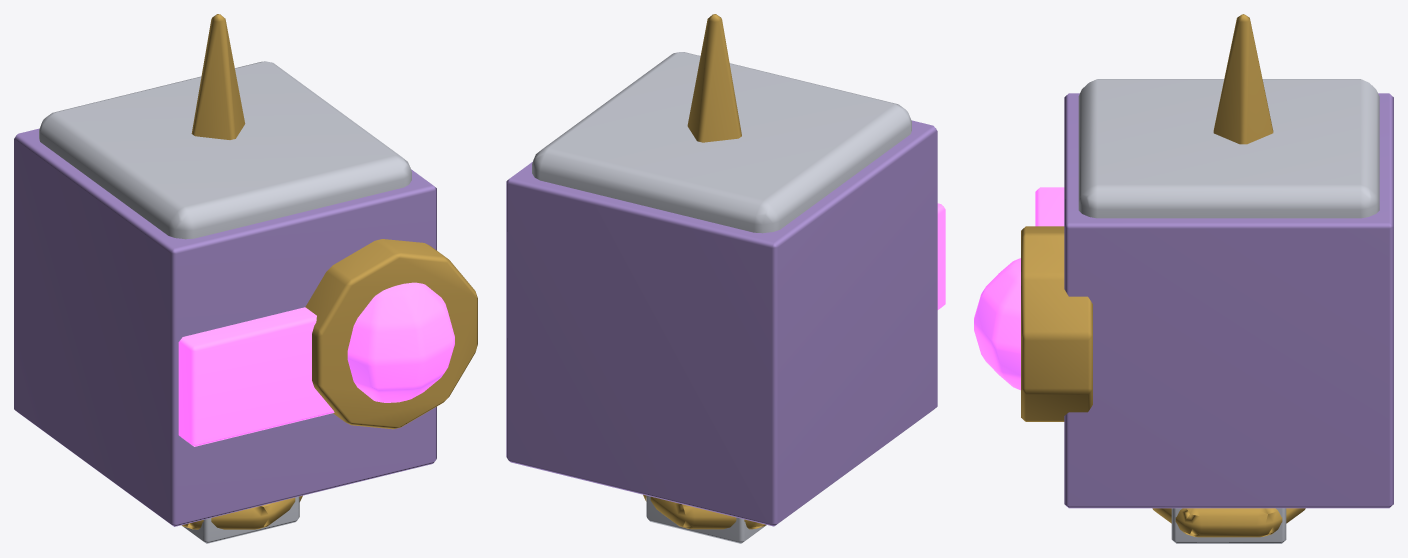
File: silksteel_head_oracle.glb
3 renders of one model, left to right at view 1: azimuth 30°, elevation 25°; view 2: azimuth 150°, elevation 25°; view 3: azimuth 270°, elevation 25°, orthographic. The views are drawn at different scales.
Parts seen in each view (by area): view 1: silksteel_head_oracle; view 2: silksteel_head_oracle; view 3: silksteel_head_oracle.
Part boxes in pixels (<box>): silksteel_head_oracle: <box>14,14,477,543</box>; silksteel_head_oracle: <box>506,14,945,543</box>; silksteel_head_oracle: <box>974,14,1393,543</box>.
Size of the model in its own units: 0.4731 by 0.78 by 0.5857.
1 material, 1 textured.
